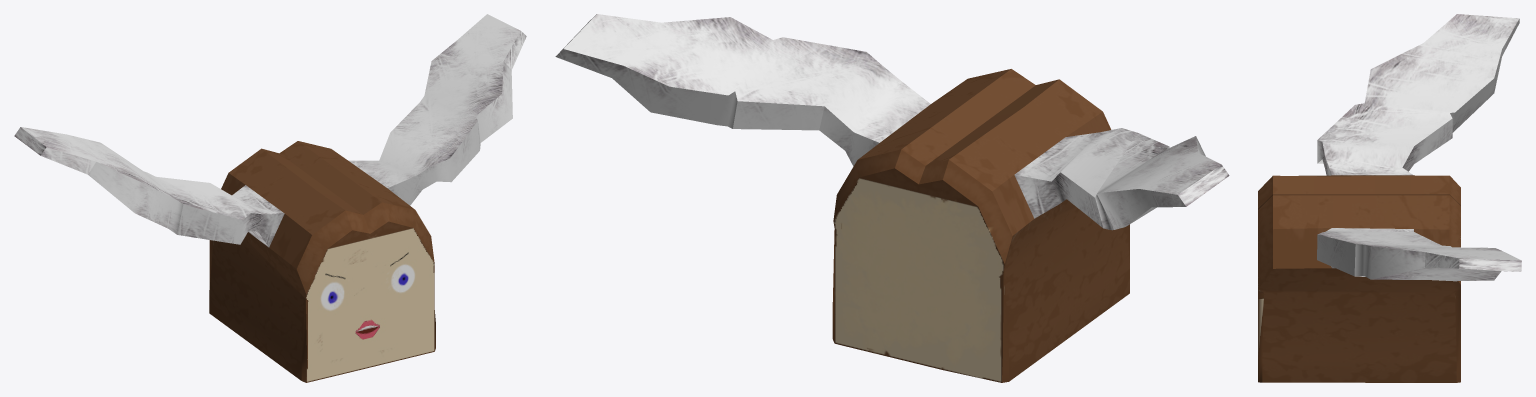
The model's file is breadanimated.obj.
3 renders of one model, left to right at view 1: azimuth 30°, elevation 25°; view 2: azimuth 150°, elevation 25°; view 3: azimuth 270°, elevation 25°, orthographic. The views are drawn at different scales.
Visible parts, largest first — view 1: FlyingBread:polySurface1; view 2: FlyingBread:polySurface1; view 3: FlyingBread:polySurface1.
Boxes of the visible parts, left/top/right/bottom form: FlyingBread:polySurface1: left=14, top=14, right=526, bottom=382; FlyingBread:polySurface1: left=555, top=14, right=1229, bottom=382; FlyingBread:polySurface1: left=1258, top=14, right=1521, bottom=382.
Size of the model in its own units: 5.84 by 2.37 by 2.6.
